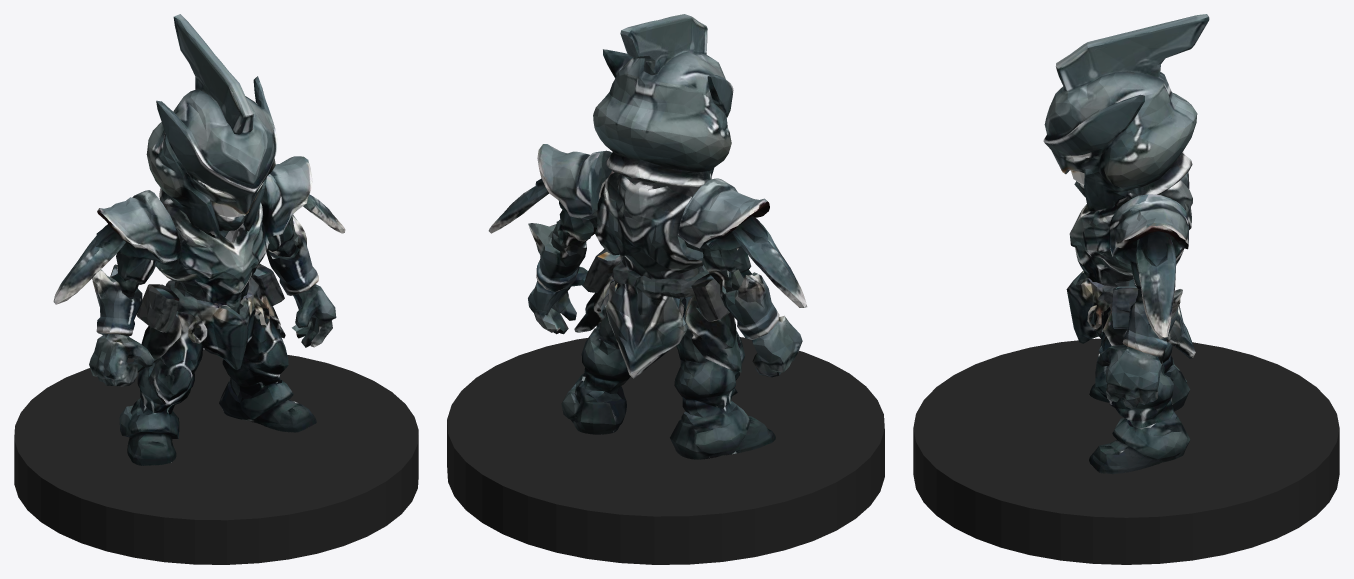
The model's file is ha-agent.glb.
The picture shows the model from 3 angles, left to right: view 1: azimuth 30°, elevation 25°; view 2: azimuth 150°, elevation 25°; view 3: azimuth 270°, elevation 25°; orthographic projection. The views are drawn at different scales.
Visible parts, largest first — view 1: figure, base; view 2: figure, base; view 3: base, figure.
Boxes of the visible parts, bbox=[...] form: figure: bbox=[53, 14, 345, 465]; base: bbox=[14, 349, 418, 564]; figure: bbox=[488, 14, 807, 459]; base: bbox=[447, 337, 884, 564]; base: bbox=[913, 338, 1339, 564]; figure: bbox=[1043, 14, 1209, 474].
Size of the model in its own units: 0.9843 by 1.17 by 0.9843.
Materials: 2 (1 with a texture image).
